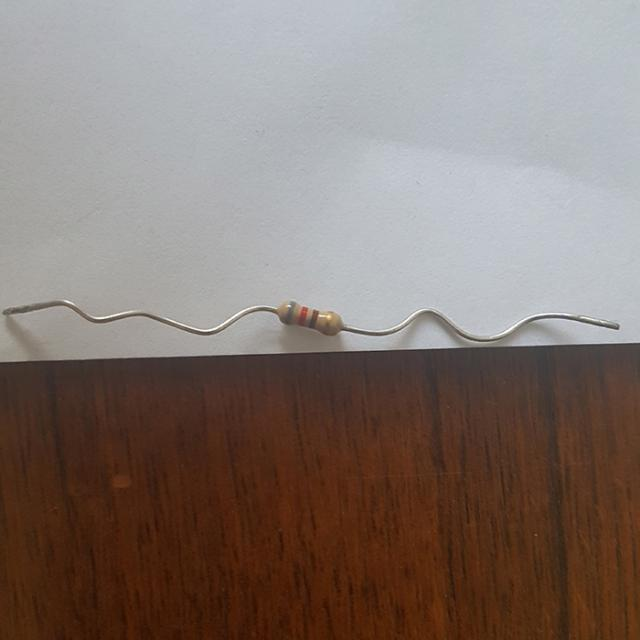brown: (310, 310, 319, 327)
gold: (325, 311, 333, 333)
grey: (286, 302, 295, 325)
red: (300, 307, 307, 325)
resistor: (276, 298, 345, 342)
